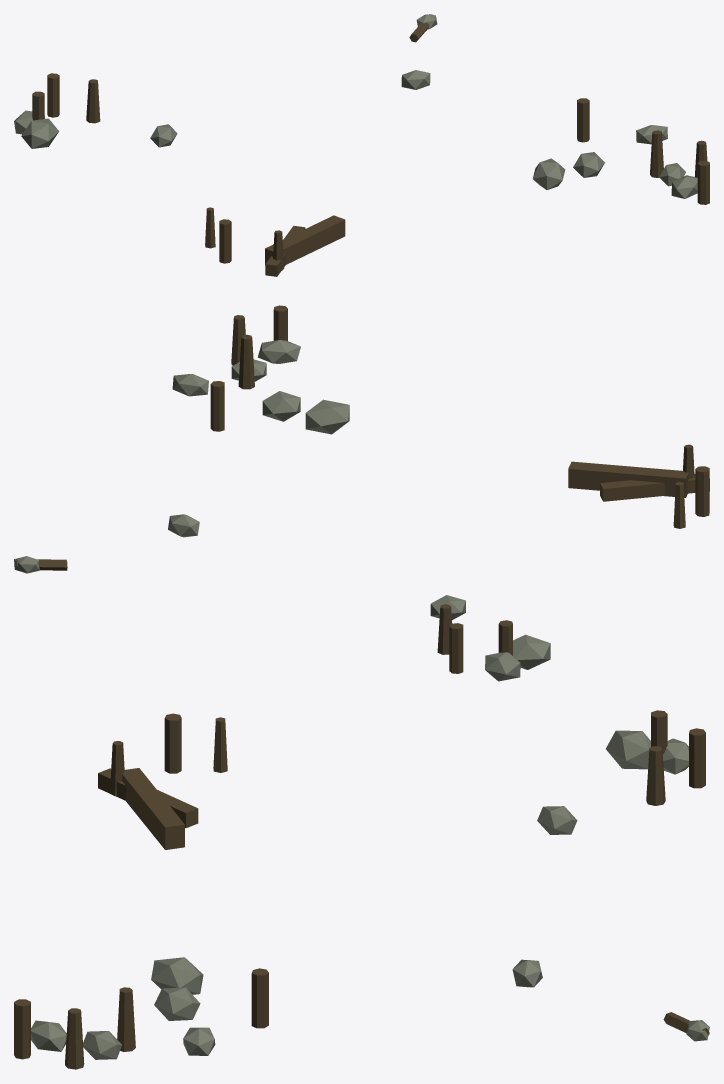
Rendered from path_split_meadow_solid_props.fbx.
3 views of the same model, one above another, from view 1: azimuth 30°, elevation 25°; view 2: azimuth 150°, elevation 25°; view 3: azimuth 270°, elevation 25° (orthographic). The views are drawn at different scales.
Visible parts, largest first — view 1: chunk_path_split_meadow__PropsSolid; view 2: chunk_path_split_meadow__PropsSolid; view 3: chunk_path_split_meadow__PropsSolid.
Part boxes in pixels (box(x1,y1,x2,y2)): chunk_path_split_meadow__PropsSolid: box(14, 14, 709, 276); chunk_path_split_meadow__PropsSolid: box(14, 305, 709, 681); chunk_path_split_meadow__PropsSolid: box(14, 710, 709, 1069).
Size of the model in its own units: 182 by 17.35 by 167.
